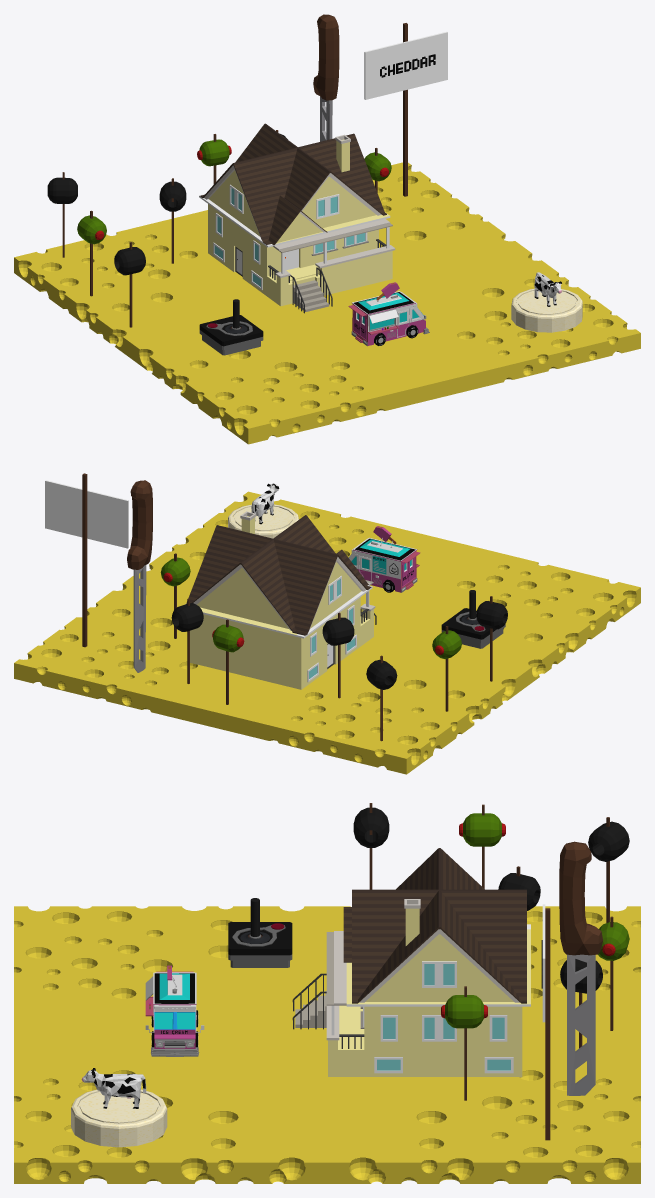
3 renders of one model, top to bottom at view 1: azimuth 30°, elevation 25°; view 2: azimuth 150°, elevation 25°; view 3: azimuth 270°, elevation 25°, orthographic. The views are drawn at different scales.
Parts seen in each view (by area): view 1: Cube.022, Cube.1555, Cube.023, VEHICLES_ICE_CREAM_TRUCK, Cylinder.016, Cube.024, OBJRANDOM_JOYSTICK, Sphere.017, Sphere.016, Sphere.020, Sphere.018, Sphere.022 (+1 smaller); view 2: Cube.022, Cube.1555, Cube.023, Cube.024, VEHICLES_ICE_CREAM_TRUCK, OBJRANDOM_JOYSTICK, Cylinder.016, Sphere.017, Sphere.020, Sphere.021, Sphere.016, Sphere.018 (+3 smaller); view 3: Cube.022, Cube.1555, Cube.024, Cylinder.016, VEHICLES_ICE_CREAM_TRUCK, OBJRANDOM_JOYSTICK, Cube.023, Sphere.019, Sphere.016, Sphere.018, ANIMAL_VACA, Sphere.017 (+3 smaller).
Part boxes in pixels (x1,y1,x2,y2): Cube.022: (14, 162, 640, 444); Cube.1555: (199, 123, 395, 313); Cube.023: (364, 23, 447, 196); VEHICLES_ICE_CREAM_TRUCK: (348, 282, 429, 346); Cylinder.016: (511, 288, 582, 332); Cube.024: (313, 14, 339, 141); OBJRANDOM_JOYSTICK: (199, 299, 263, 355); Sphere.017: (114, 242, 145, 327); Sphere.016: (47, 172, 77, 257); Sphere.020: (159, 178, 186, 263); Sphere.018: (77, 210, 106, 296); Sphere.022: (197, 134, 231, 184); Cube.022: (14, 491, 640, 774); Cube.1555: (185, 511, 376, 689); Cube.023: (45, 473, 128, 647); Cube.024: (127, 480, 152, 672); VEHICLES_ICE_CREAM_TRUCK: (348, 526, 420, 592); OBJRANDOM_JOYSTICK: (441, 590, 505, 648); Cylinder.016: (228, 504, 298, 538); Sphere.017: (476, 596, 507, 681); Sphere.020: (322, 612, 354, 698); Sphere.021: (171, 598, 203, 683); Sphere.016: (366, 655, 397, 741); Sphere.018: (432, 626, 461, 711); Cube.022: (14, 906, 640, 1183); Cube.1555: (292, 848, 530, 1077); Cube.024: (559, 841, 602, 1095); Cylinder.016: (71, 1089, 167, 1147); VEHICLES_ICE_CREAM_TRUCK: (145, 965, 204, 1056); OBJRANDOM_JOYSTICK: (228, 898, 292, 967); Cube.023: (541, 904, 550, 1140); Sphere.019: (441, 986, 487, 1100); Sphere.016: (588, 817, 629, 922); Sphere.018: (459, 804, 505, 888); ANIMAL_VACA: (81, 1068, 146, 1108); Sphere.017: (353, 803, 389, 889).
Size of the model in its own units: 3917 by 2159 by 4000.
48 materials, 3 textured.
